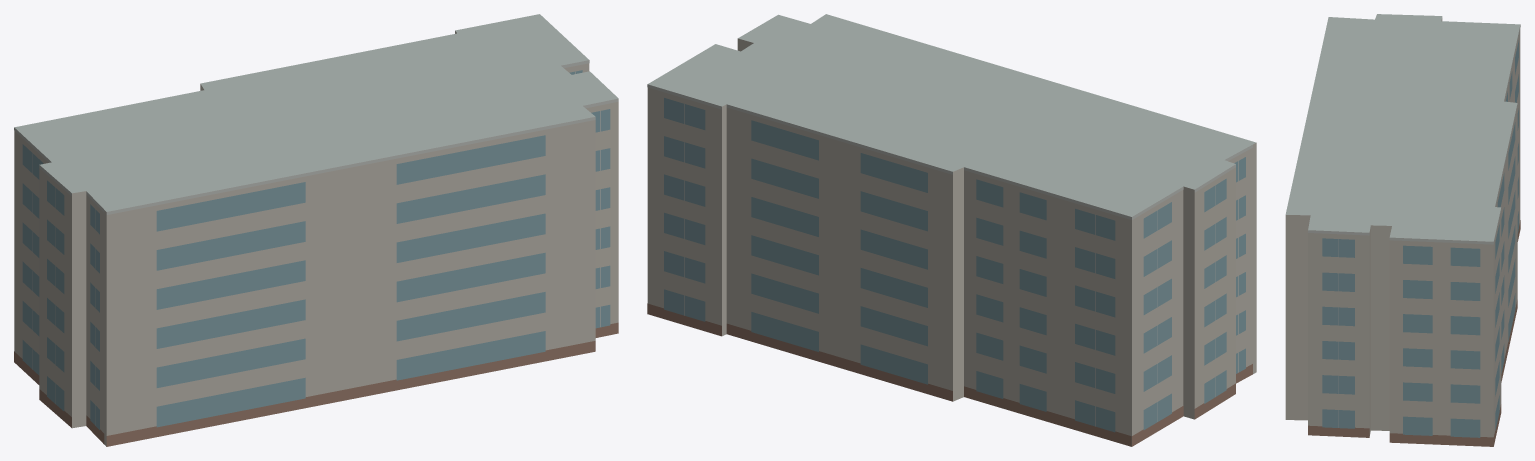
Rendered from survey-upis-32551786.glb.
3 renders of one model, left to right at view 1: azimuth 30°, elevation 25°; view 2: azimuth 150°, elevation 25°; view 3: azimuth 270°, elevation 25°, orthographic. The views are drawn at different scales.
Visible parts, largest first — view 1: survey-upis-32551786.tmp; view 2: survey-upis-32551786.tmp; view 3: survey-upis-32551786.tmp.
Boxes of the visible parts, x1=… form: survey-upis-32551786.tmp: x1=14, y1=14, x2=618, y2=446; survey-upis-32551786.tmp: x1=647, y1=14, x2=1256, y2=446; survey-upis-32551786.tmp: x1=1285, y1=14, x2=1520, y2=446.
Size of the model in its own units: 43.12 by 18.1 by 18.8.
